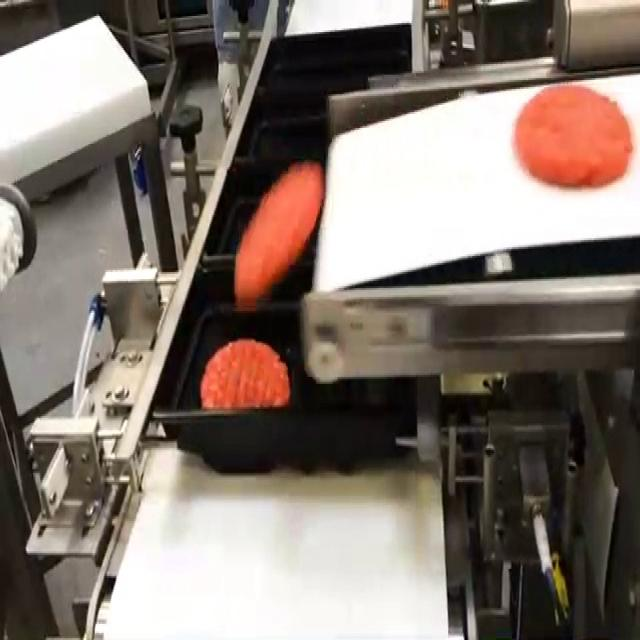hamburguer: (234, 162, 324, 306), (512, 84, 635, 187)
